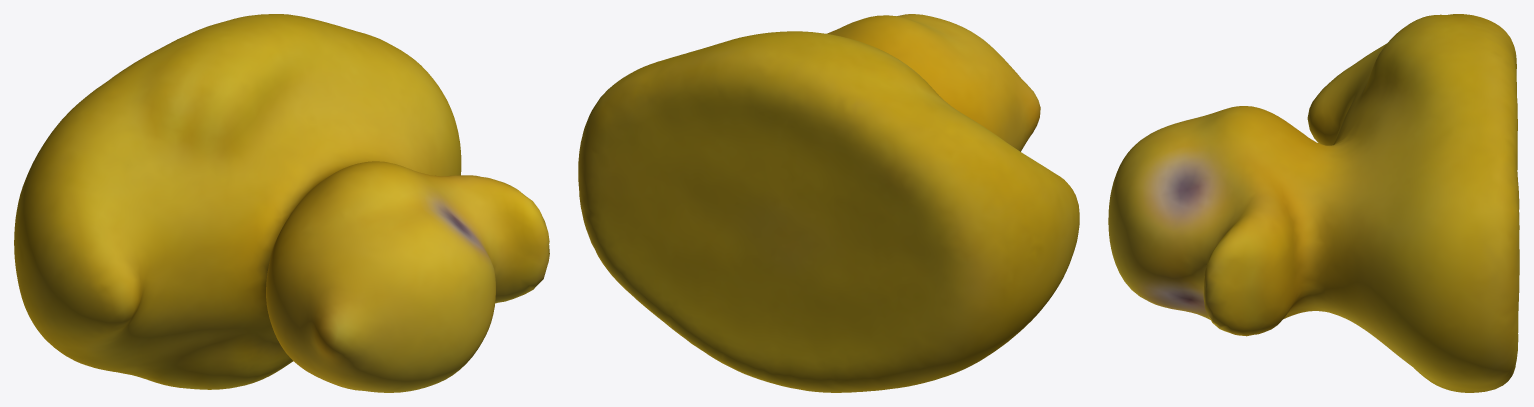
3 views of the same model, side by side, from view 1: azimuth 30°, elevation 25°; view 2: azimuth 150°, elevation 25°; view 3: azimuth 270°, elevation 25° (orthographic). The views are drawn at different scales.
Size of the model in its own units: 0.1044 by 0.0774 by 0.0857.
